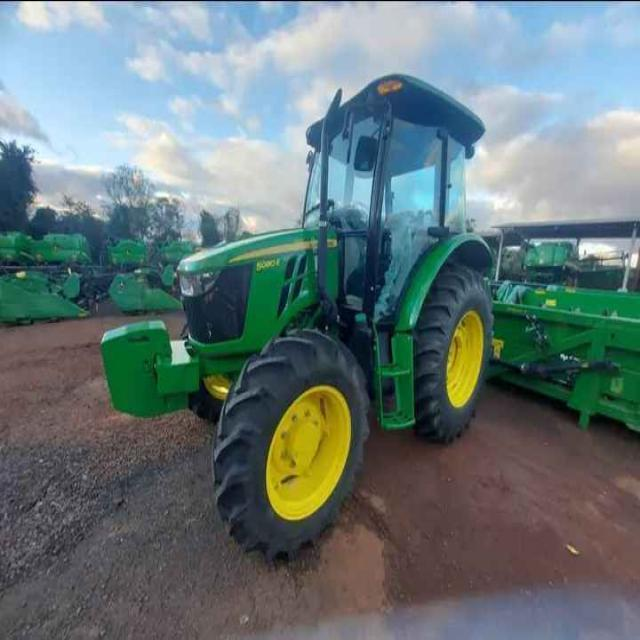Tratores - v5 YOLO V8L 2024-11-13: (105, 66, 498, 570)
